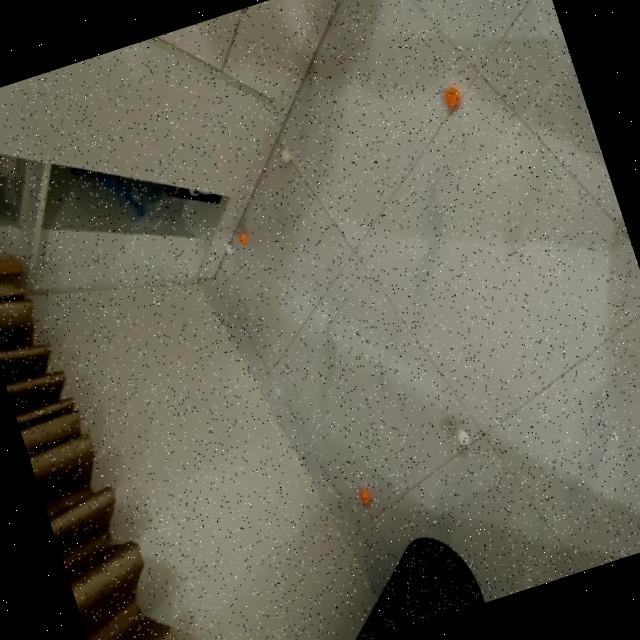ping-pong-ball: (437, 80, 468, 112), (351, 484, 376, 512), (451, 424, 472, 451), (230, 229, 252, 249), (273, 147, 294, 165), (221, 243, 235, 260)
